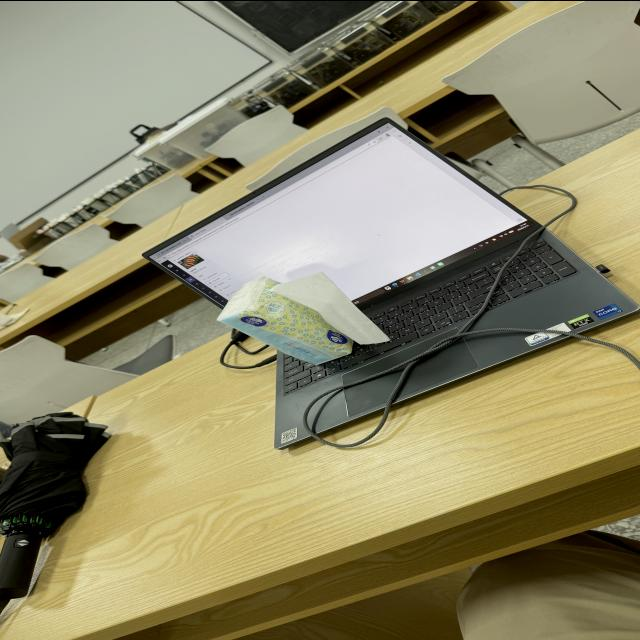tissue: (218, 277, 351, 363), (273, 272, 388, 343), (0, 308, 29, 326)
